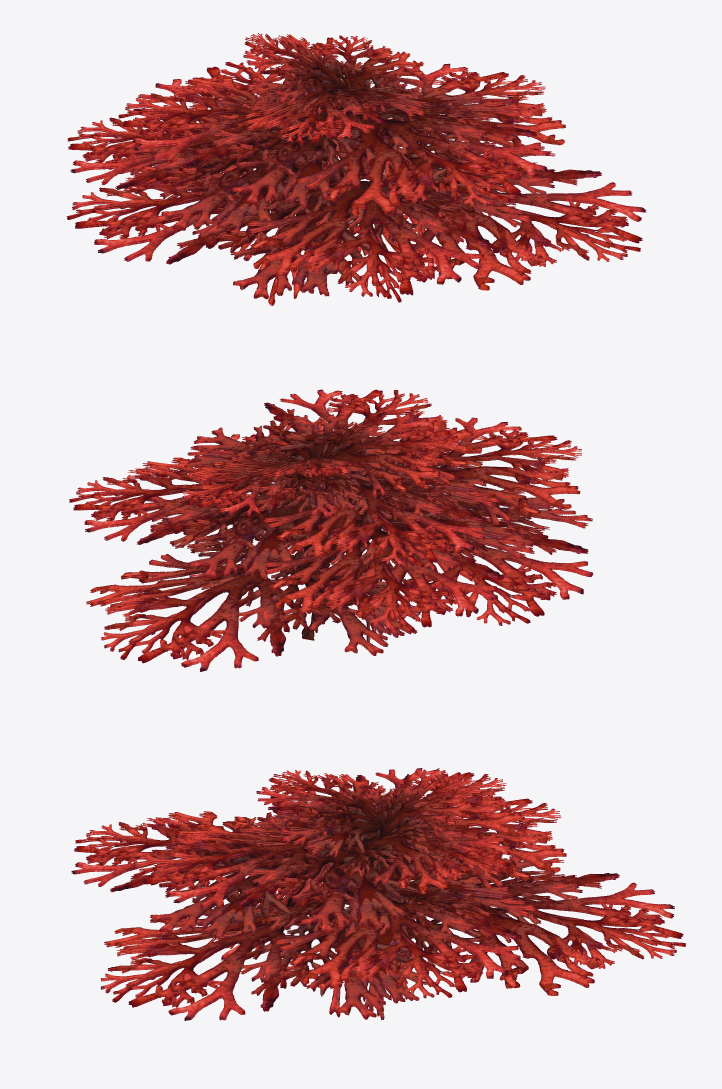
Rendered from Coral-Medium_LOD0.fbx.
3 renders of one model, top to bottom at view 1: azimuth 30°, elevation 25°; view 2: azimuth 150°, elevation 25°; view 3: azimuth 270°, elevation 25°, orthographic. The views are drawn at different scales.
Parts seen in each view (by area): view 1: Coral-Medium_LOD0; view 2: Coral-Medium_LOD0; view 3: Coral-Medium_LOD0.
Part boxes in pixels (left/top/right/bottom): Coral-Medium_LOD0: left=66, top=33, right=646, bottom=305; Coral-Medium_LOD0: left=69, top=389, right=593, bottom=671; Coral-Medium_LOD0: left=71, top=768, right=685, bottom=1020.
Bounding box in the file's own units: 0.7854 × 0.2244 × 0.7654.
